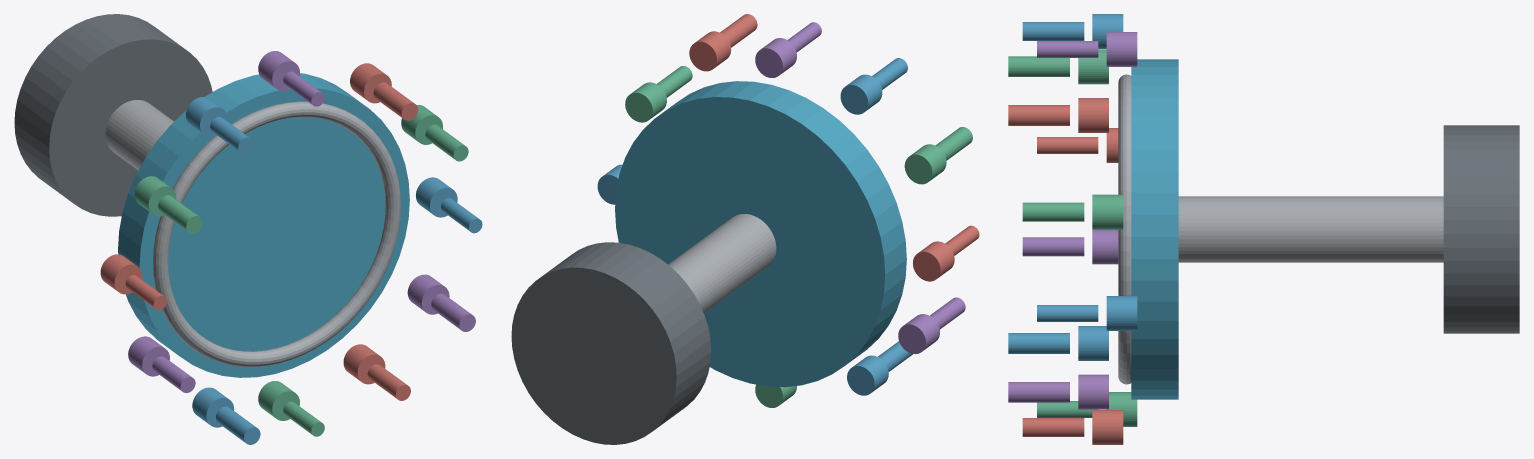
File: dranmar_sterile_tool_carousel_exploded.glb
The picture shows the model from 3 angles, left to right: view 1: azimuth 30°, elevation 25°; view 2: azimuth 150°, elevation 25°; view 3: azimuth 270°, elevation 25°; orthographic projection. The views are drawn at different scales.
Visible parts, largest first — view 1: carousel_rotor, carousel_base, carousel_ring, carousel_column, dock_00, dock_06, dock_09, dock_03, dock_10, dock_07, dock_04, dock_05 (+16 smaller); view 2: carousel_rotor, carousel_base, carousel_column, dock_04, dock_05, dock_02, dock_06, dock_01, dock_07, dock_08, dock_03, dock_09 (+9 smaller); view 3: carousel_column, carousel_rotor, carousel_base, carousel_ring, tool_02, tool_08, tool_11, tool_01, tool_07, tool_05, tool_04, tool_10 (+15 smaller).
Part boxes in pixels (x1=…): carousel_rotor: x1=118, y1=73, x2=409, y2=377; carousel_base: x1=14, y1=14, x2=212, y2=216; carousel_ring: x1=153, y1=101, x2=400, y2=366; carousel_column: x1=105, y1=100, x2=173, y2=170; dock_00: x1=416, y1=177, x2=457, y2=217; dock_06: x1=100, y1=254, x2=142, y2=294; dock_09: x1=258, y1=381, x2=299, y2=420; dock_03: x1=258, y1=51, x2=299, y2=90; dock_10: x1=343, y1=344, x2=385, y2=384; dock_07: x1=128, y1=336, x2=169, y2=376; dock_04: x1=186, y1=97, x2=227, y2=136; dock_05: x1=134, y1=176, x2=176, y2=216; carousel_rotor: x1=615, y1=81, x2=906, y2=387; carousel_base: x1=511, y1=242, x2=711, y2=444; carousel_column: x1=668, y1=214, x2=776, y2=313; dock_04: x1=840, y1=74, x2=882, y2=114; dock_05: x1=904, y1=144, x2=946, y2=184; dock_02: x1=689, y1=31, x2=731, y2=71; dock_06: x1=913, y1=241, x2=954, y2=281; dock_01: x1=625, y1=82, x2=666, y2=122; dock_07: x1=898, y1=314, x2=939, y2=353; dock_08: x1=847, y1=355, x2=888, y2=395; dock_03: x1=755, y1=38, x2=796, y2=77; dock_09: x1=755, y1=384, x2=796, y2=407; carousel_column: x1=1178, y1=196, x2=1443, y2=262; carousel_rotor: x1=1131, y1=59, x2=1178, y2=399; carousel_base: x1=1443, y1=125, x2=1519, y2=333; carousel_ring: x1=1118, y1=74, x2=1131, y2=384; tool_02: x1=1008, y1=105, x2=1069, y2=125; tool_08: x1=1008, y1=333, x2=1069, y2=353; tool_11: x1=1008, y1=382, x2=1069, y2=402; tool_01: x1=1022, y1=202, x2=1084, y2=221; tool_07: x1=1022, y1=237, x2=1084, y2=256; tool_05: x1=1008, y1=56, x2=1069, y2=76; tool_04: x1=1022, y1=22, x2=1084, y2=40; tool_10: x1=1022, y1=418, x2=1084, y2=436.
Size of the model in its own units: 0.914 by 0.914 by 1.08.
